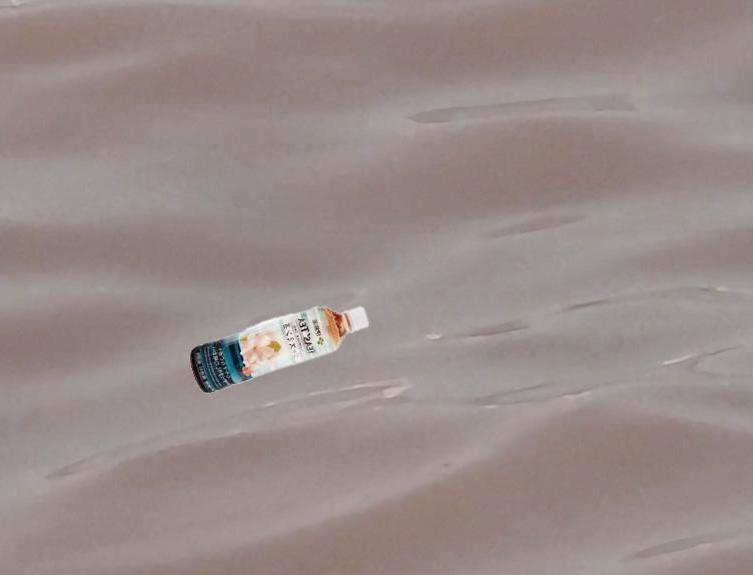Plastic: (182, 304, 370, 397)
